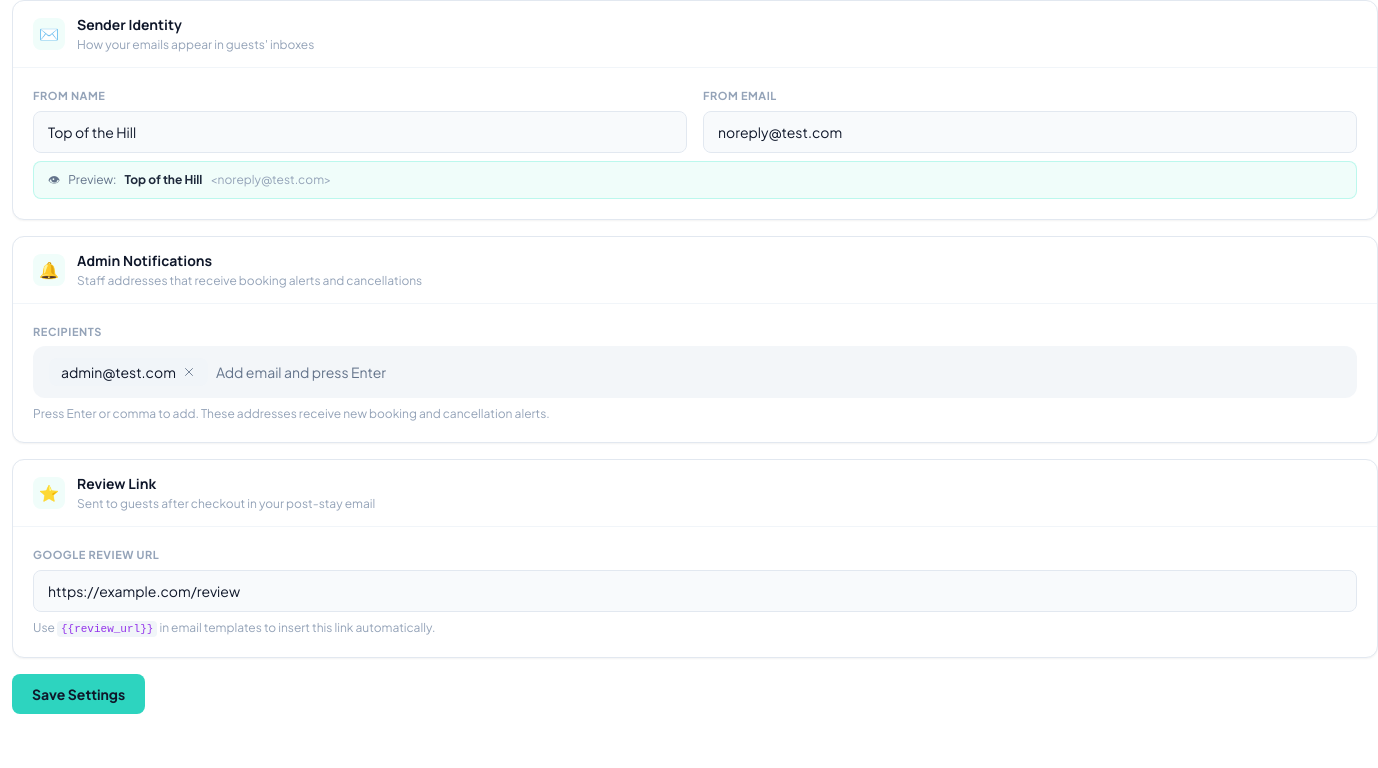
Test case: EmailSettingsForm › shows Saved! on success
Click the button "Save Settings": [79, 694] box left=12, top=674, right=145, bottom=714
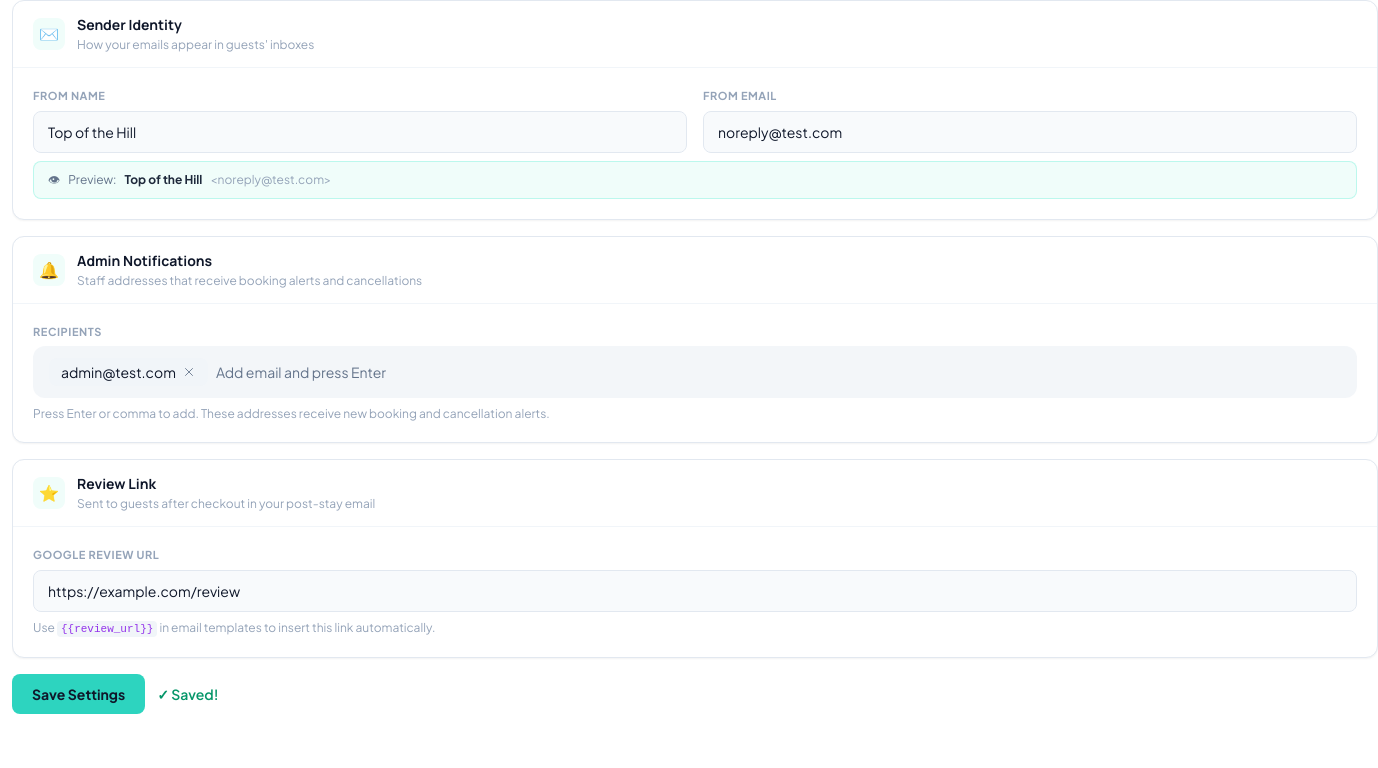
Expected: the text "✓ Saved!" is shown, left=157, top=684, right=219, bottom=704
